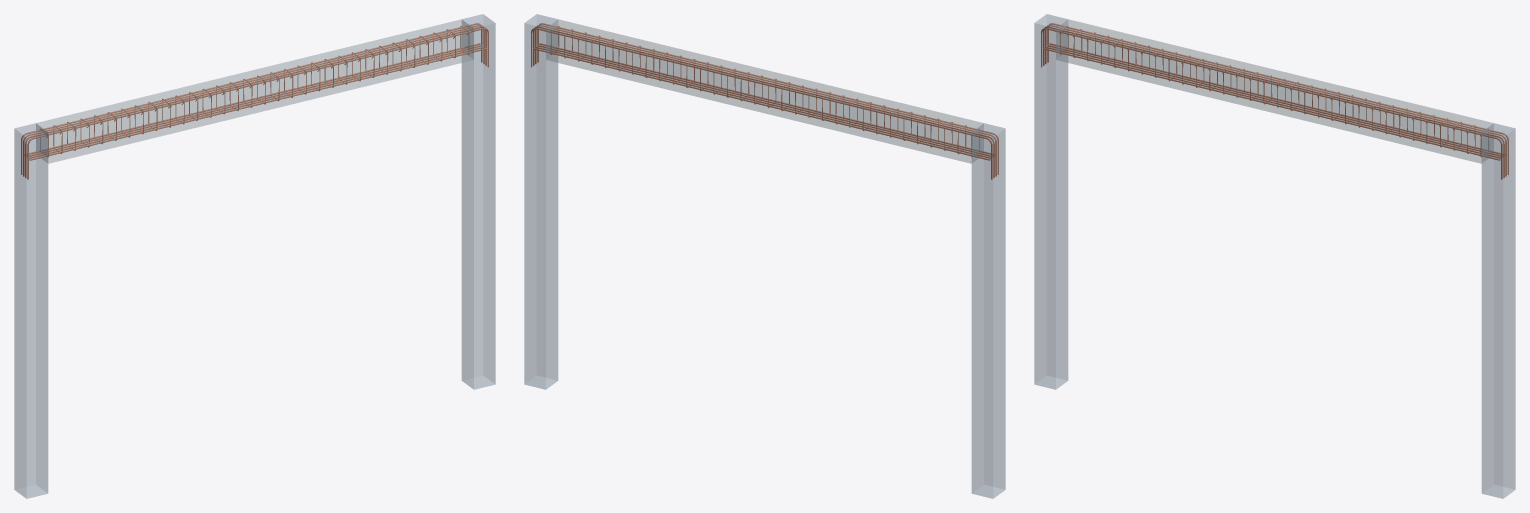
File: otimo_design_belka_zelbetowa_zbrojenie.glb
3 renders of one model, left to right at view 1: azimuth 30°, elevation 25°; view 2: azimuth 150°, elevation 25°; view 3: azimuth 330°, elevation 25°, orthographic.
Visible parts, largest first — view 1: S-1 (×2), Beam, Zbrojenie górne, Zbrojenie dolne, Strzemiona; view 2: S-1 (×2), Beam, Zbrojenie górne, Zbrojenie dolne, Strzemiona; view 3: S-1 (×2), Beam, Zbrojenie górne, Zbrojenie dolne, Strzemiona.
Part boxes in pixels (x1,y1,x2,y2): S-1 (×2): (14,14,495,498); Beam: (36,19,473,163); Zbrojenie górne: (21,23,488,179); Zbrojenie dolne: (24,43,486,160); Strzemiona: (40,26,469,157); S-1 (×2): (524,14,1005,498); Beam: (546,19,983,163); Zbrojenie górne: (531,23,998,179); Zbrojenie dolne: (533,43,995,160); Strzemiona: (550,25,979,157); S-1 (×2): (1034,14,1515,498); Beam: (1056,19,1493,163); Zbrojenie górne: (1041,23,1508,179); Zbrojenie dolne: (1043,43,1505,160); Strzemiona: (1059,25,1488,157).
Size of the model in its own units: 5.43 by 4 by 0.25.
